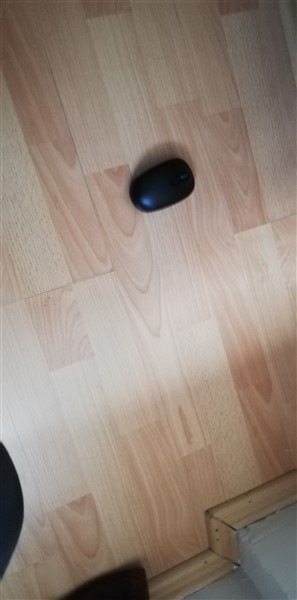mouse: (127, 153, 199, 214)
